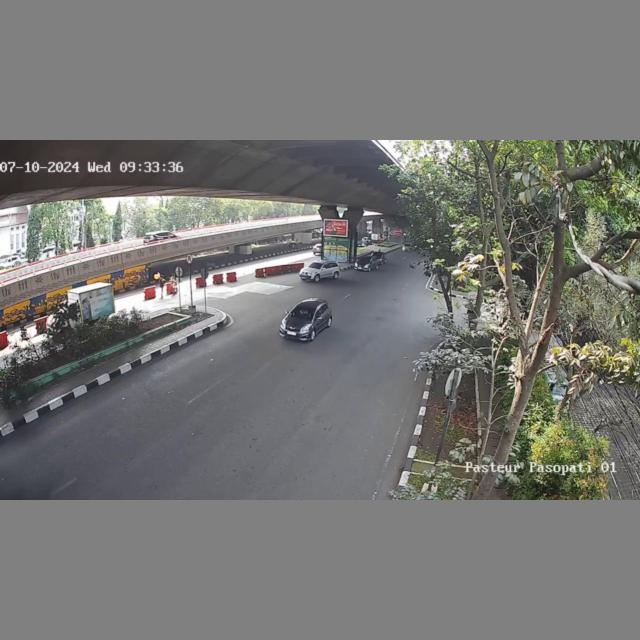windshield: (288, 305, 317, 321)
